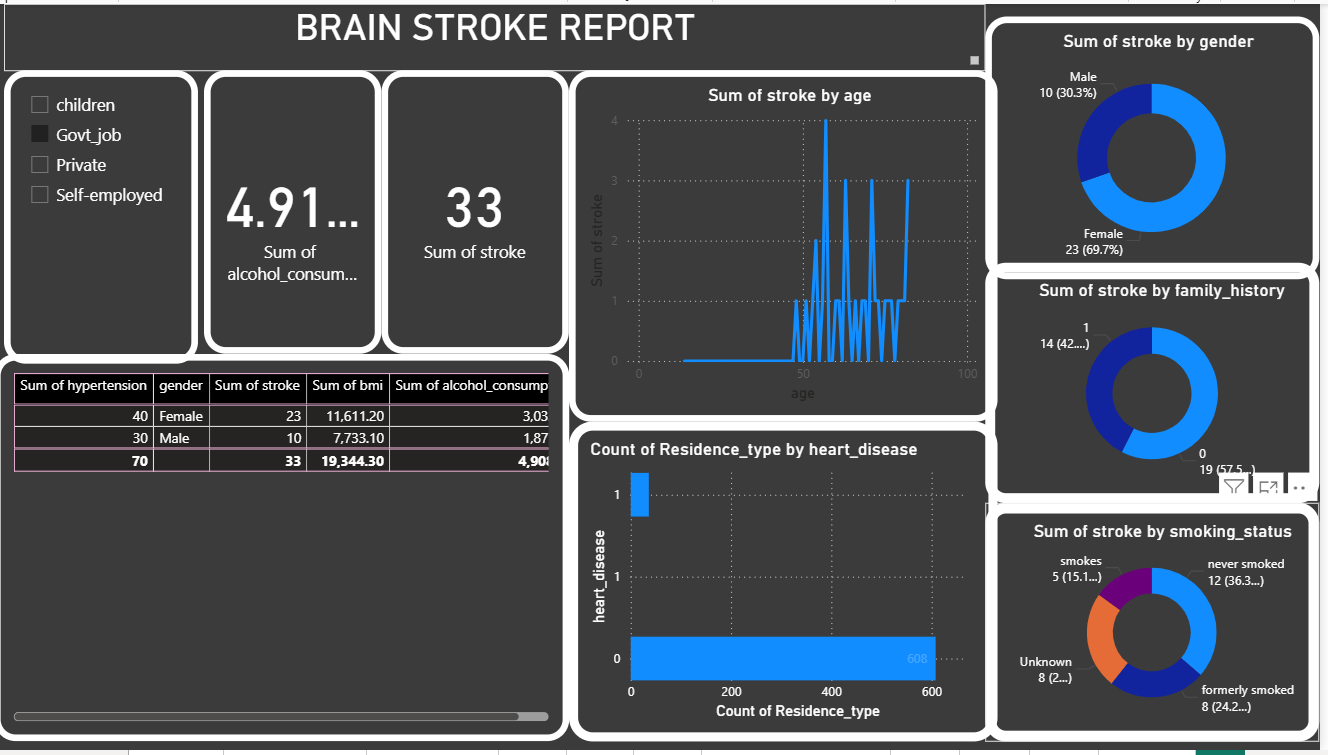

The dashboard page shown, as its layout file describes it:
{"tool":"powerbi","page":{"name":"Page 2","canvas":[1280,720],"ordinal":10},"visuals":[{"type":"textbox","title":"BRAIN STROKE REPORT","box":[9.6,0,946.8,64.5],"z":0},{"type":"donutChart","fields":{"Category":["Sheet1.smoking_status"],"Y":["Sum(Sheet1.stroke)"]},"box":[956.7,481.4,322.1,230.4],"z":1000},{"type":"donutChart","fields":{"Y":["Sum(Sheet1.stroke)"],"Category":["Sheet1.family_history"]},"box":[956.7,249.7,322.1,231.6],"z":2000},{"type":"donutChart","fields":{"Y":["Sum(Sheet1.stroke)"],"Category":["Sheet1.gender"]},"box":[956.7,12.1,322.1,253.4],"z":3000},{"type":"barChart","fields":{"Category":["Sheet1.heart_disease"],"Y":["CountNonNull(Sheet1.Residence_type)"]},"box":[555,403,413.8,308.8],"z":4000},{"type":"lineChart","fields":{"Category":["Sheet1.age"],"Y":["Sum(Sheet1.stroke)"]},"box":[555,63.9,413.8,339],"z":5000},{"type":"slicer","fields":{"Values":["Sheet1.work_type"]},"box":[9.7,63.9,187,283.5],"z":6000},{"type":"tableEx","fields":{"Values":["Sum(Sheet1.hypertension)","Sheet1.gender","Sum(Sheet1.bmi)","Sum(Sheet1.alcohol_consumption)"]},"box":[0,337.8,555,374],"z":7000},{"type":"card","fields":{"Values":["Sum(Sheet1.alcohol_consumption)"]},"box":[202.7,63.9,171.3,273.9],"z":8000},{"type":"card","fields":{"Values":["Sum(Sheet1.stroke)"]},"box":[374,63.9,181,273.9],"z":9000}]}

Visuals, with their boxes in screenshot pixels (x1, y1, x2, y2), scaled from the page's 1280x720 canvas onto the 1328x755 screenshot:
"BRAIN STROKE REPORT" textbox: left=10, top=0, right=992, bottom=68
donutChart - Sheet1.smoking_status x Sum(Sheet1.stroke): left=993, top=505, right=1327, bottom=746
donutChart - Sum(Sheet1.stroke) x Sheet1.family_history: left=993, top=262, right=1327, bottom=505
donutChart - Sum(Sheet1.stroke) x Sheet1.gender: left=993, top=13, right=1327, bottom=278
barChart - Sheet1.heart_disease x CountNonNull(Sheet1.Residence_type): left=576, top=423, right=1005, bottom=746
lineChart - Sheet1.age x Sum(Sheet1.stroke): left=576, top=67, right=1005, bottom=422
slicer - Sheet1.work_type: left=10, top=67, right=204, bottom=364
tableEx - Sum(Sheet1.hypertension) x Sheet1.gender: left=0, top=354, right=576, bottom=746
card - Sum(Sheet1.alcohol_consumption): left=210, top=67, right=388, bottom=354
card - Sum(Sheet1.stroke): left=388, top=67, right=576, bottom=354
